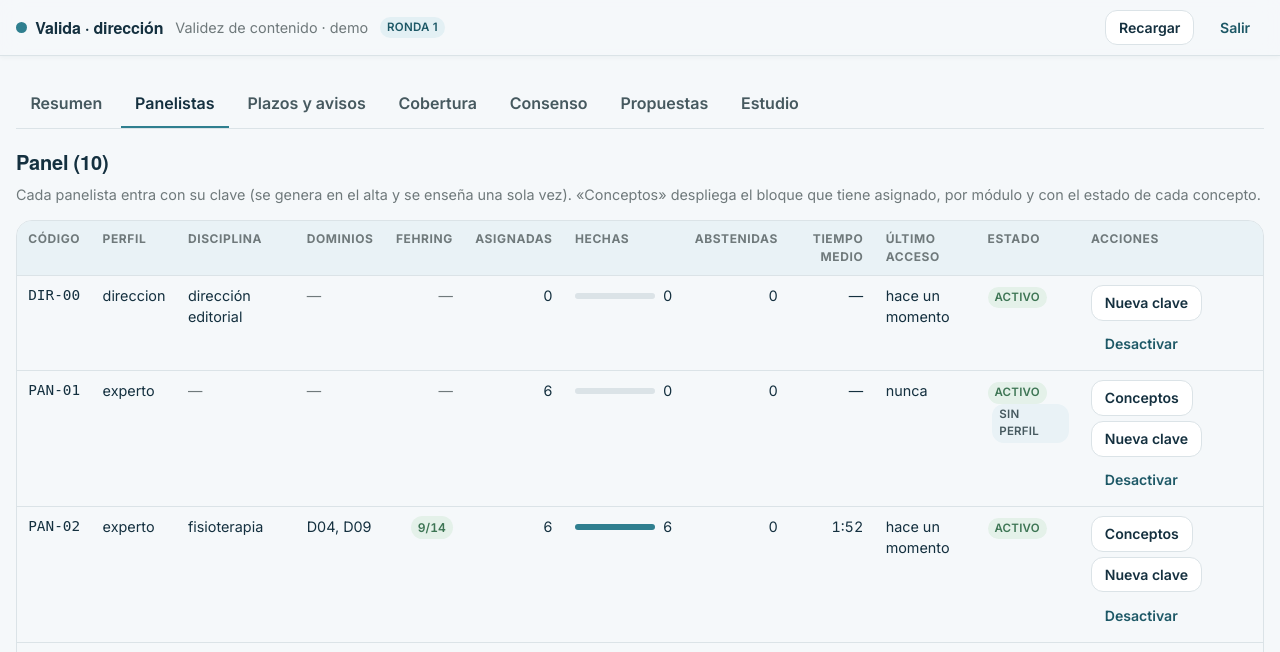
asignaciones por panelista › la pestaña Panelistas enseña qué conceptos tiene asignados cada evaluador
Click the button with aria-label "Conceptos de PAN-02". click: coordinates (1142, 534)
box: [1091,516,1193,552]
(page scrolled)
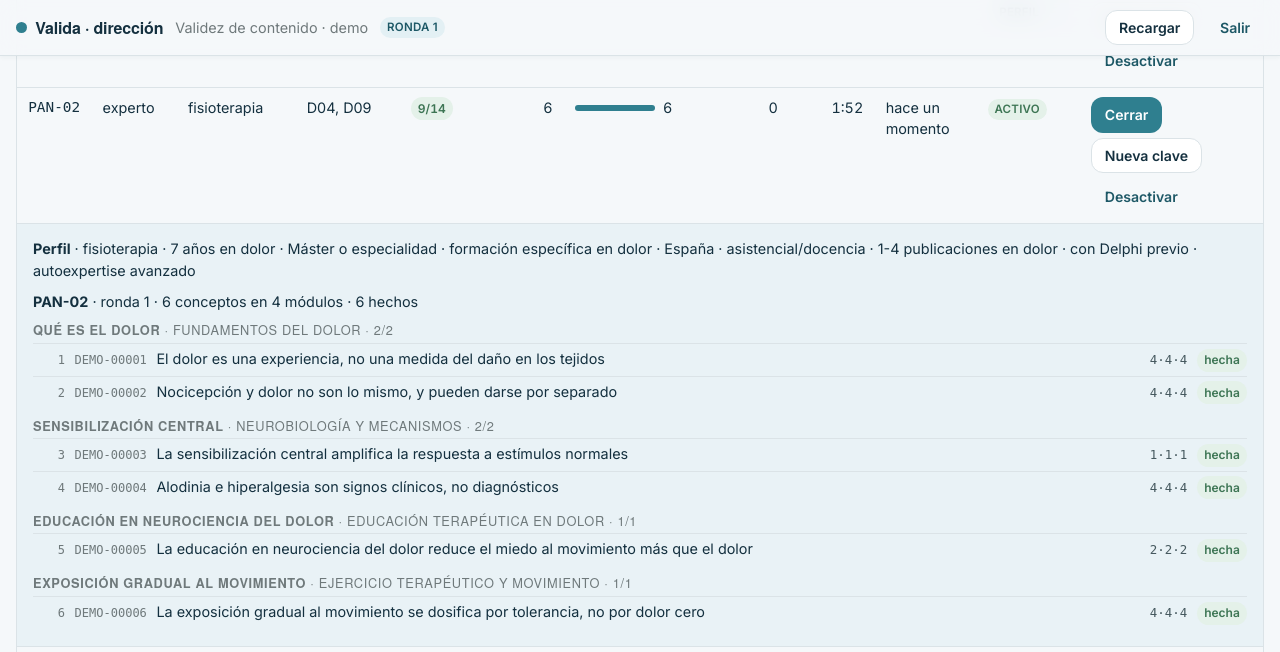
Result: the text "La sensibilización central amplifica la respuesta a estímulos normales" is shown at [156,445,628,462]
Result: the text "hecha" in the row of "DEMO-00001" is shown at [1204,352,1240,367]
